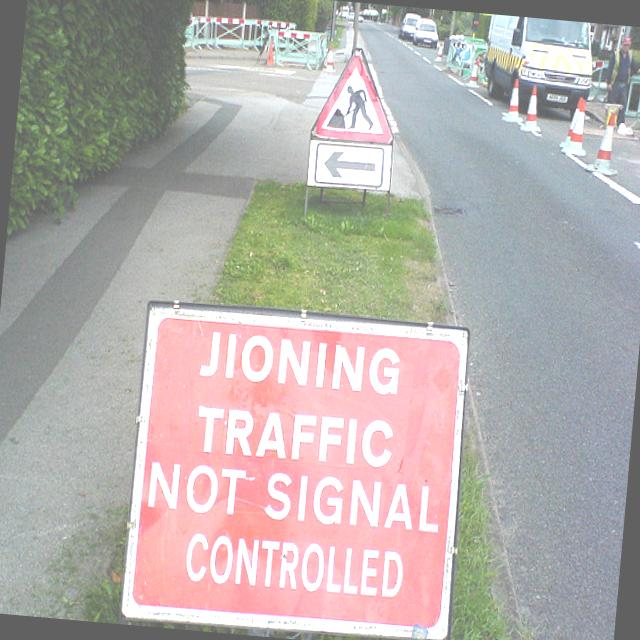Vehicle: (478, 14, 596, 120), (412, 18, 439, 46), (400, 13, 421, 42), (346, 12, 364, 24), (470, 42, 488, 54)
